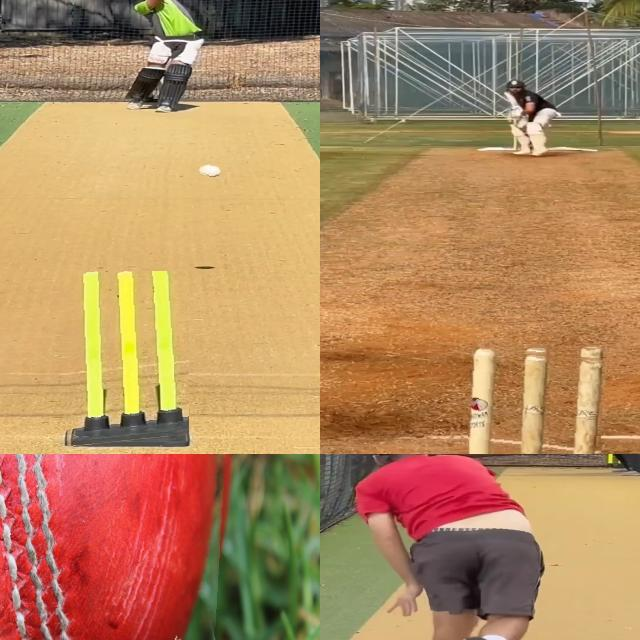Cricket ball: (0, 454, 239, 640), (196, 160, 224, 179)
Stumps: (61, 271, 189, 447), (467, 344, 606, 454)
